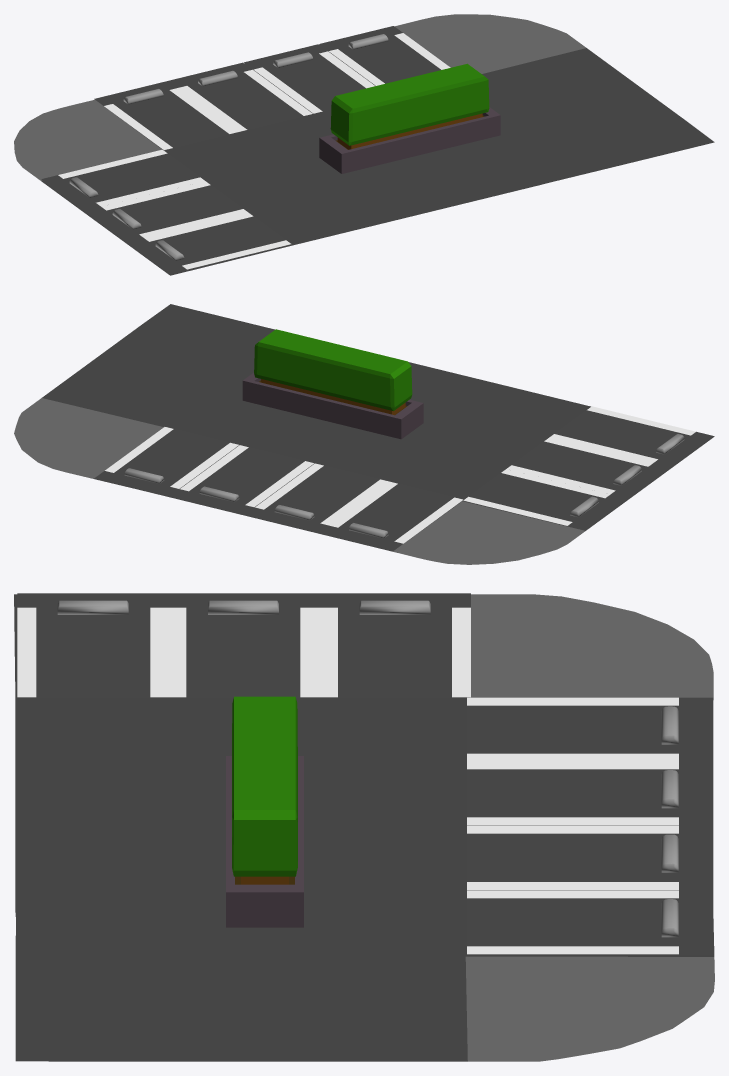
The model's file is parkki.fbx.
3 views of the same model, one above another, from view 1: azimuth 30°, elevation 25°; view 2: azimuth 150°, elevation 25°; view 3: azimuth 270°, elevation 25° (orthographic). The views are drawn at different scales.
Visible parts, largest first — view 1: Plane; view 2: Plane; view 3: Plane.
Part boxes in pixels (box(x1,y1,x2,y2)): Plane: box(14, 14, 714, 275); Plane: box(14, 304, 714, 564); Plane: box(14, 593, 714, 1061).
Size of the model in its own units: 642 by 68.82 by 407.
